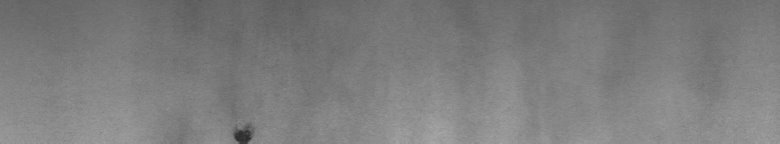fi: (228, 116, 262, 136)
